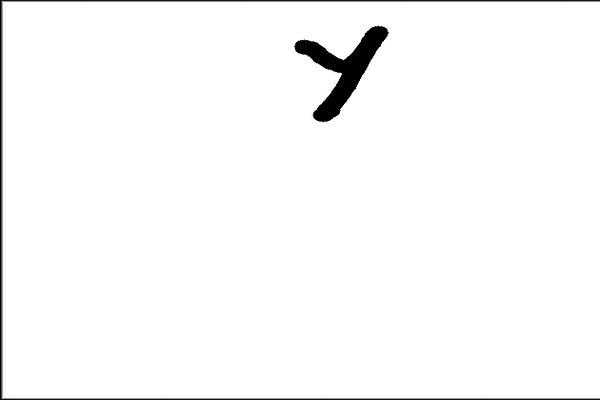Y: (290, 15, 396, 130)
